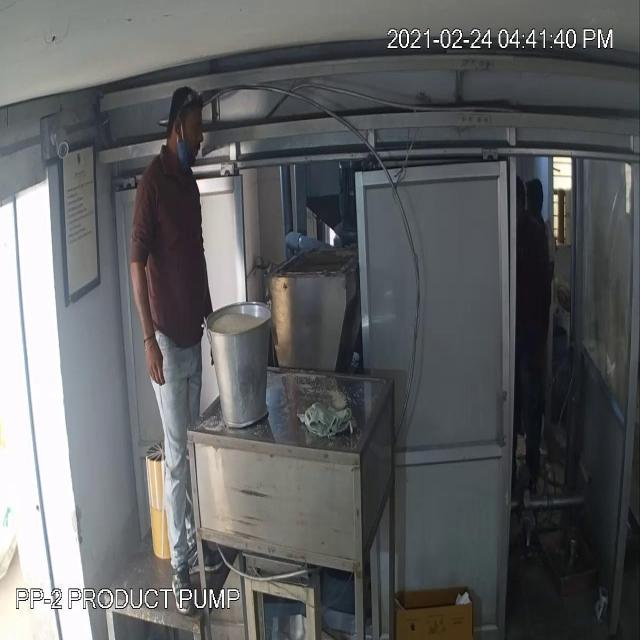no-helmet: (167, 82, 206, 132)
